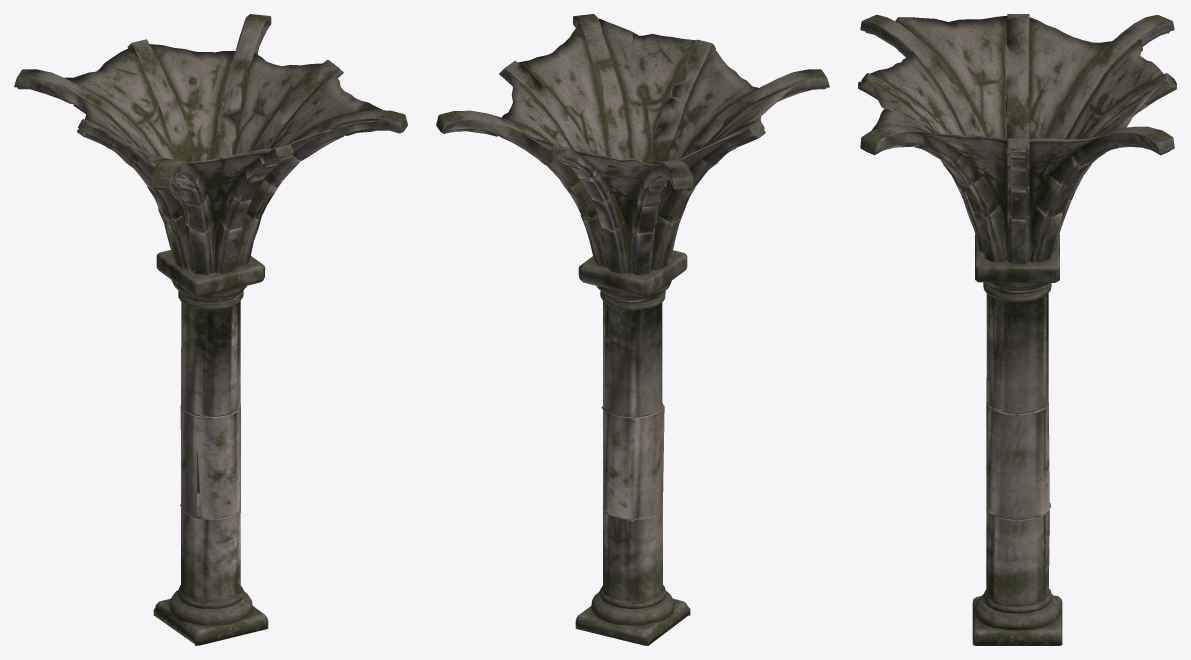
The model's file is Meshy_AI_Moss_Crowned_Pillar_20261114_texture.fbx.
3 views of the same model, side by side, from view 1: azimuth 30°, elevation 25°; view 2: azimuth 150°, elevation 25°; view 3: azimuth 270°, elevation 25° (orthographic). The views are drawn at different scales.
Visible parts, largest first — view 1: Mesh_0; view 2: Mesh_0; view 3: Mesh_0.
Part boxes in pixels (x1=…): Mesh_0: x1=14, y1=14, x2=407, y2=645; Mesh_0: x1=436, y1=14, x2=829, y2=645; Mesh_0: x1=858, y1=14, x2=1176, y2=645.
Size of the model in its own units: 49.02 by 95.12 by 49.85.
Materials: 1 (1 with a texture image).
